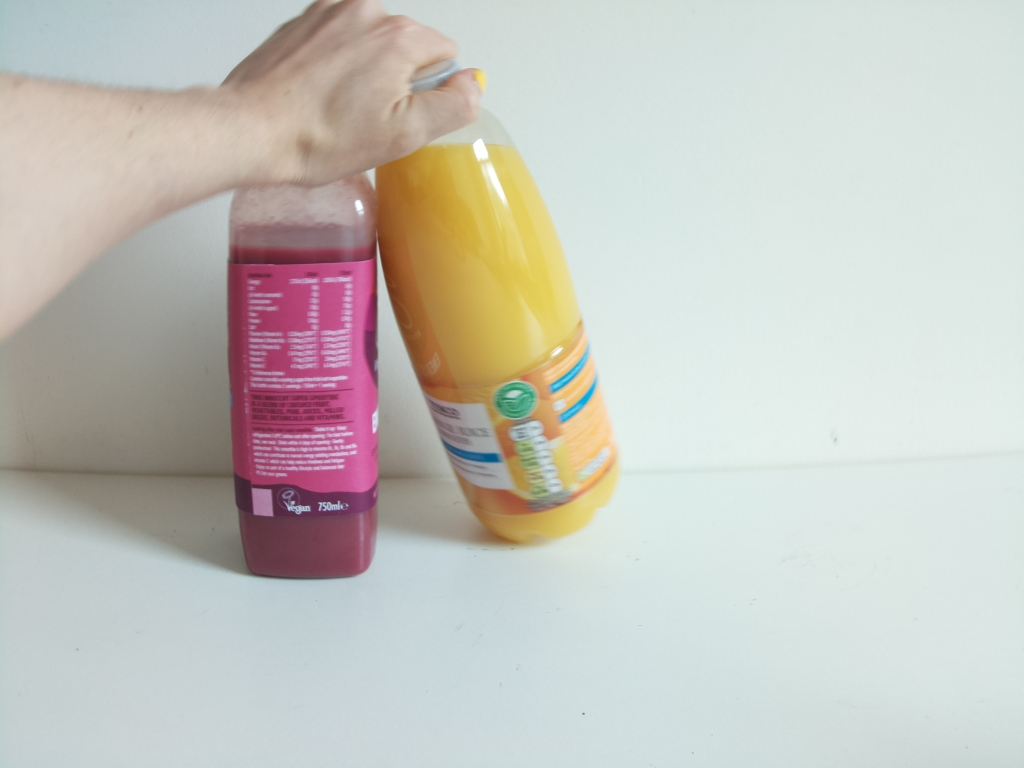juice: (377, 56, 626, 554), (224, 168, 389, 589)
